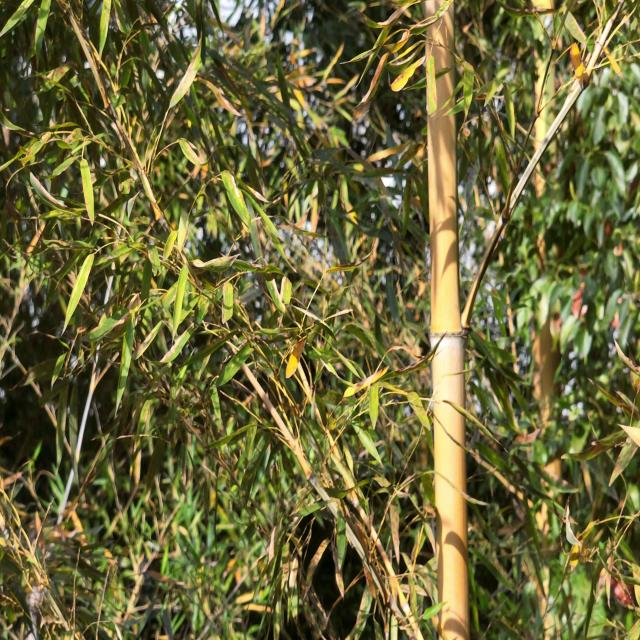Bamboo-shoots: (426, 0, 470, 640)
